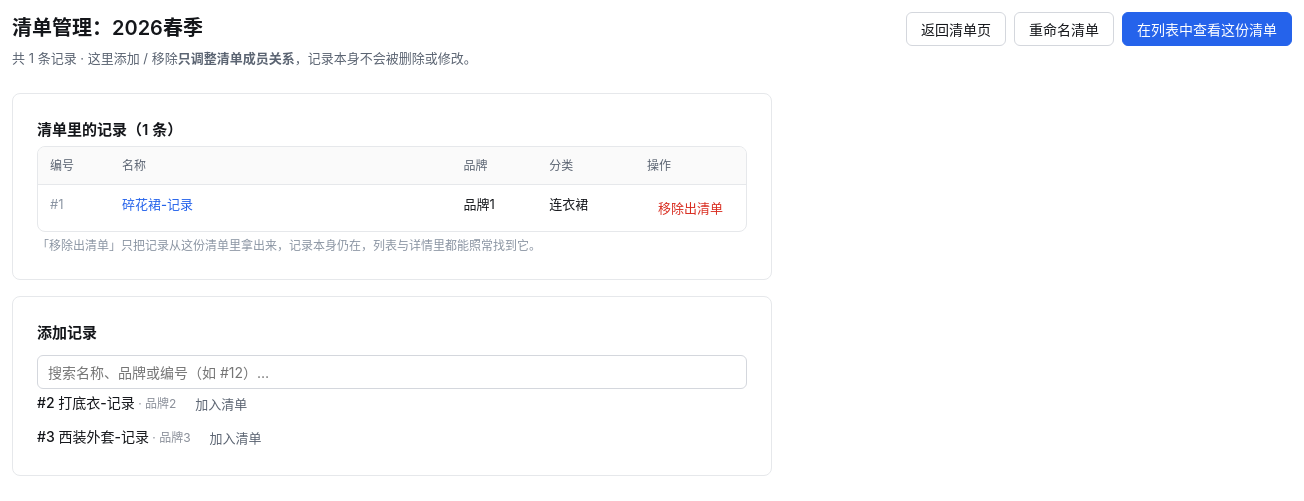
Test: v6.6（需求 1）：清单管理视图 › 「加入清单」：从候选列表添加记录（支持搜索定位）
The width and height of the screenshot is (1304, 501).
Expected: the element with test id "iw-plan-candidate-2" is shown, top-left (37, 389), bottom-right (258, 417)
Type "西装" into the field with test id "iw-plan-add-search" at (392, 372), box top-left (37, 355), bottom-right (747, 389)
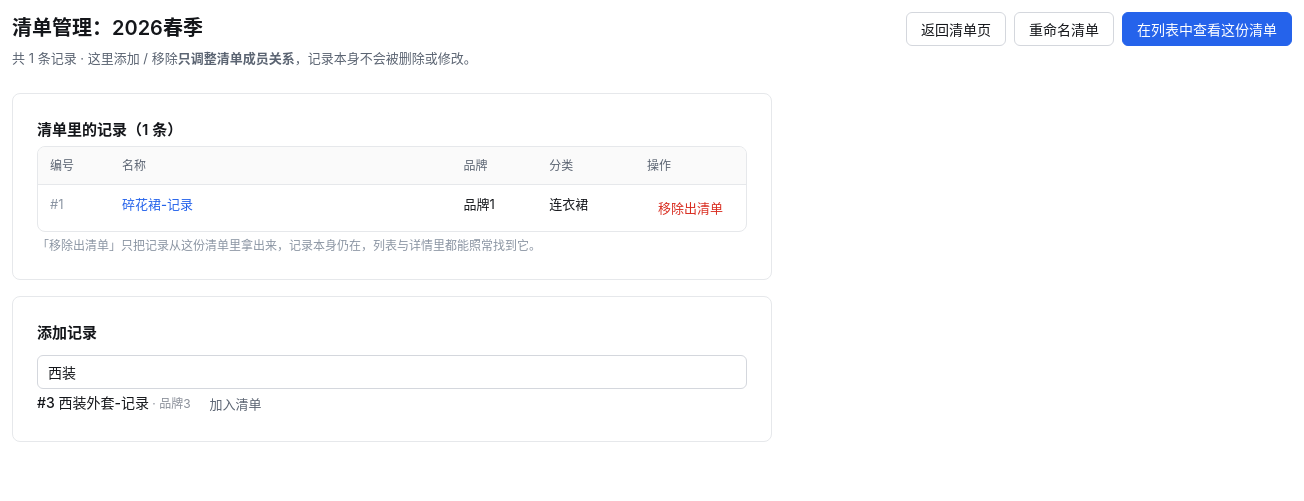
Expected: the element with test id "iw-plan-candidate-3" is shown, top-left (37, 389), bottom-right (273, 417)
Result: the element with test id "iw-plan-candidate-2" is gone
Click the button with test id "iw-plan-add-3" at (236, 403), box top-left (199, 389), bottom-right (273, 417)
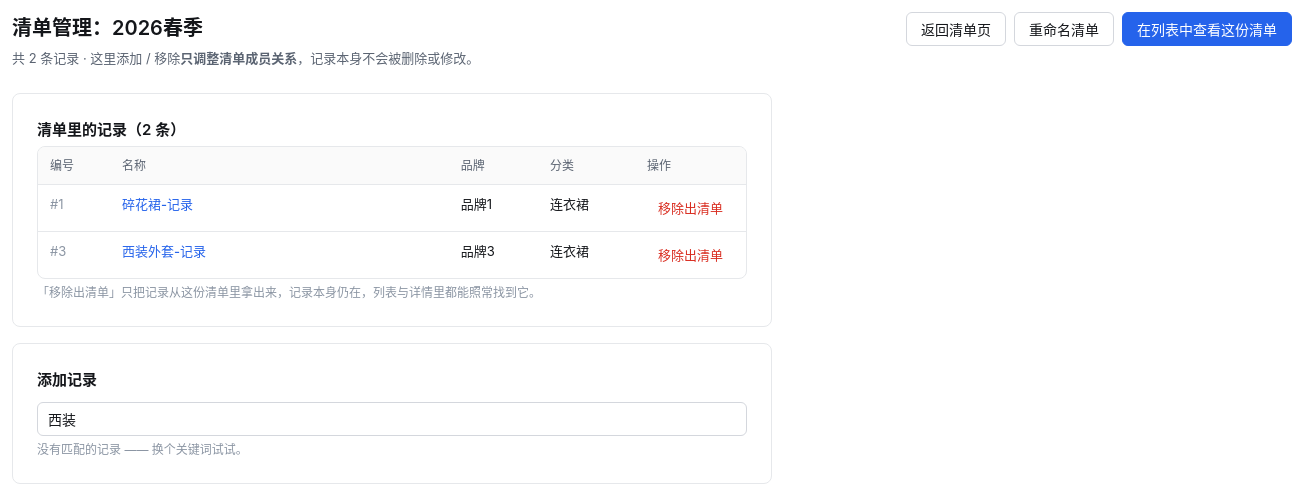
Result: the row with test id "iw-plan-member-3" is shown at top-left (38, 232), bottom-right (746, 278)
Result: the element with test id "iw-plan-candidate-3" is gone
